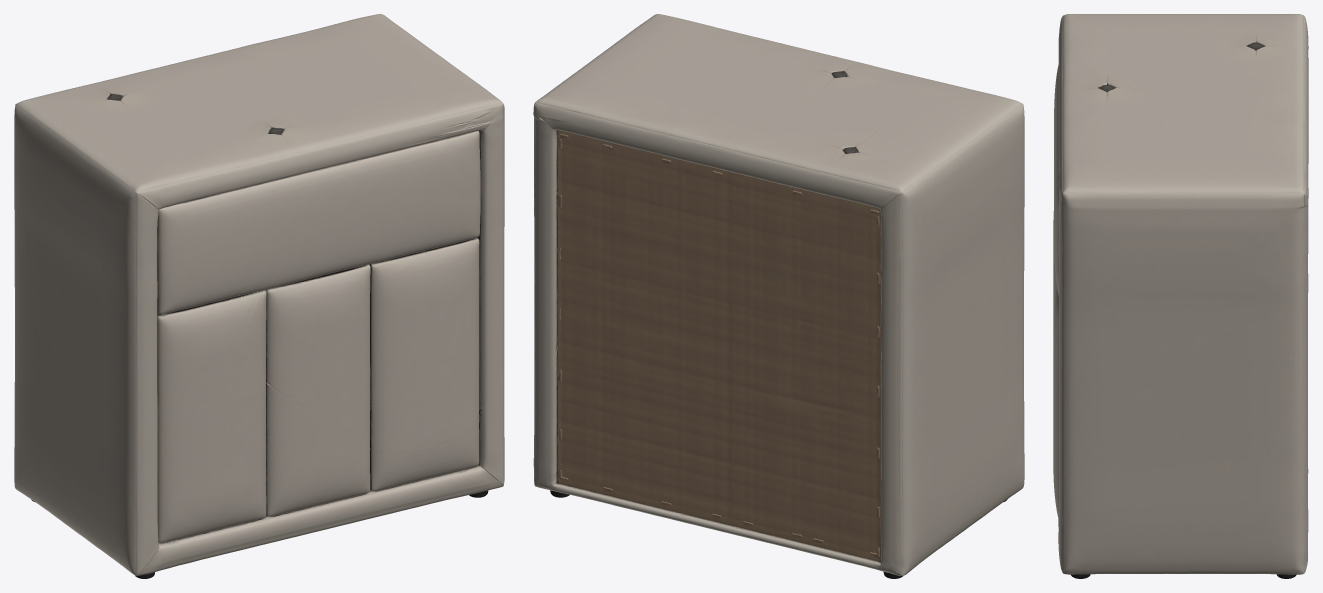
Rendered from No Name-08.glb.
3 renders of one model, left to right at view 1: azimuth 30°, elevation 25°; view 2: azimuth 150°, elevation 25°; view 3: azimuth 270°, elevation 25°, orthographic.
Visible parts, largest first — view 1: tripo_node_7e1cbb7e-9007-46be-9656-347d717004e9; view 2: tripo_node_7e1cbb7e-9007-46be-9656-347d717004e9; view 3: tripo_node_7e1cbb7e-9007-46be-9656-347d717004e9.
Part boxes in pixels (<box>): tripo_node_7e1cbb7e-9007-46be-9656-347d717004e9: <box>14,14,504,578</box>; tripo_node_7e1cbb7e-9007-46be-9656-347d717004e9: <box>533,14,1024,578</box>; tripo_node_7e1cbb7e-9007-46be-9656-347d717004e9: <box>1053,14,1308,578</box>.
Size of the model in its own units: 0.9799 by 0.9818 by 0.5725.
Materials: 1 (1 with a texture image).
